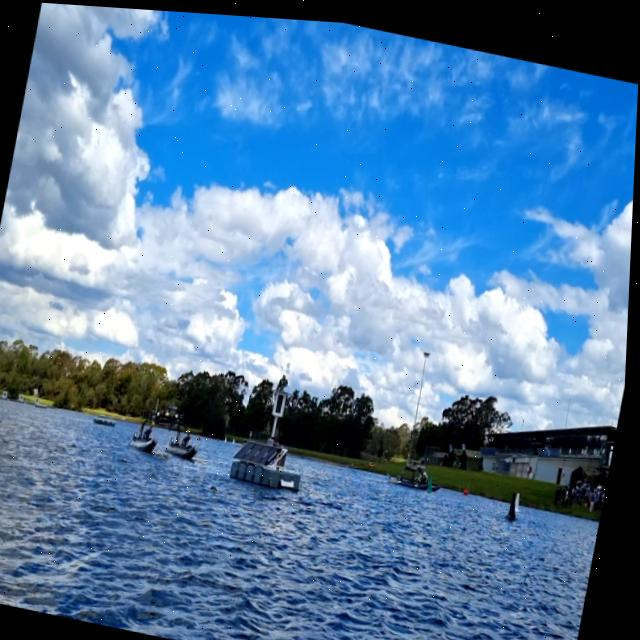led: (277, 388, 289, 412)
